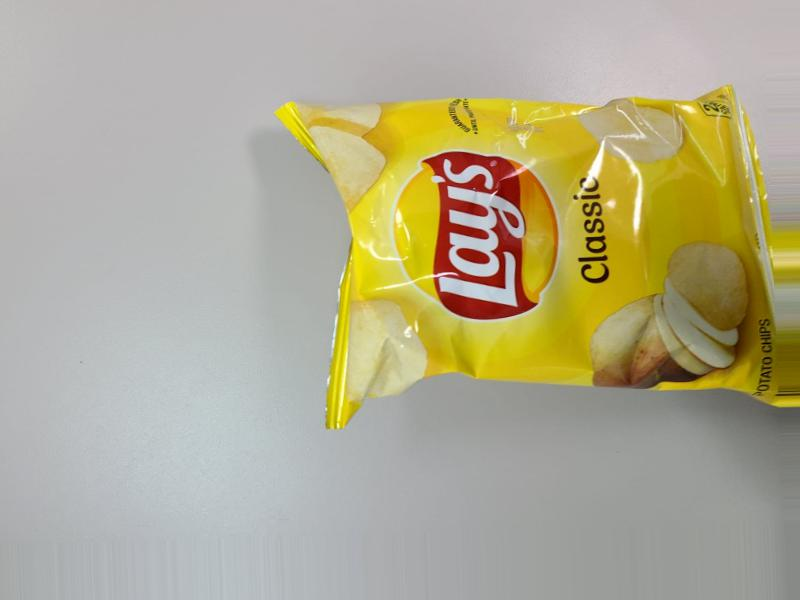lays: (327, 122, 732, 393)
